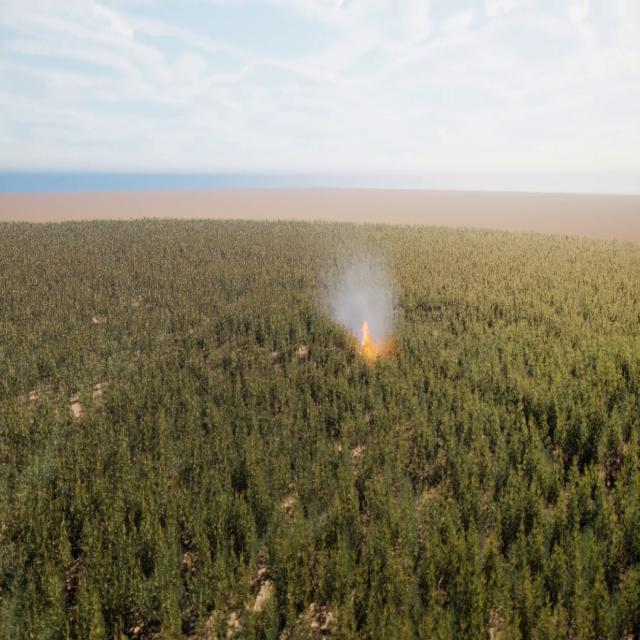fire: (359, 322, 387, 360)
smoke: (319, 253, 395, 349)
